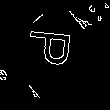P_E: (28, 34, 82, 76)
